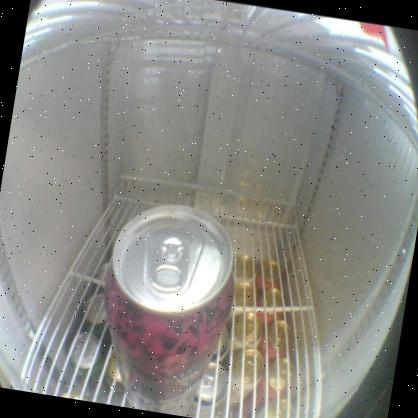can: (84, 194, 242, 412)
